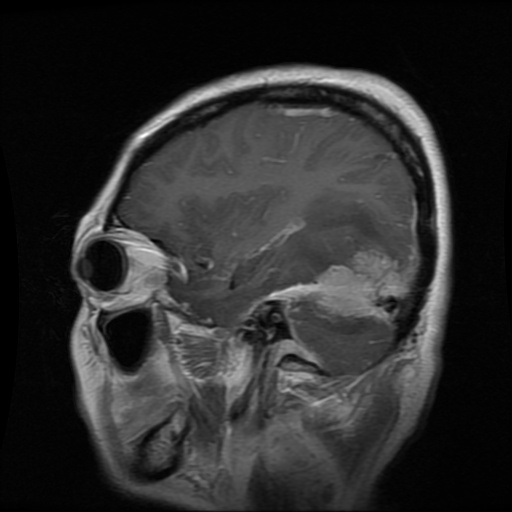meningioma: (268, 249, 410, 321)
